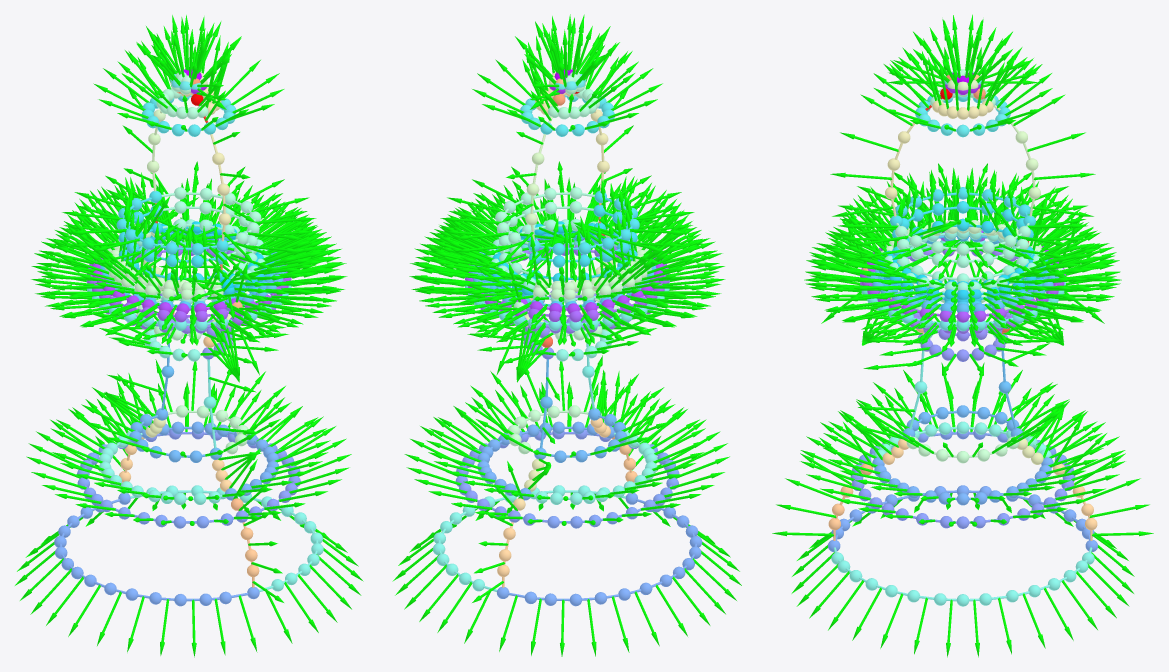
Rendered from onshape_bishop.gltf.
The picture shows the model from 3 angles, left to right: view 1: azimuth 30°, elevation 25°; view 2: azimuth 150°, elevation 25°; view 3: azimuth 270°, elevation 25°; orthographic projection.
Size of the model in its own units: 0.5529 by 0.984 by 0.6069.
